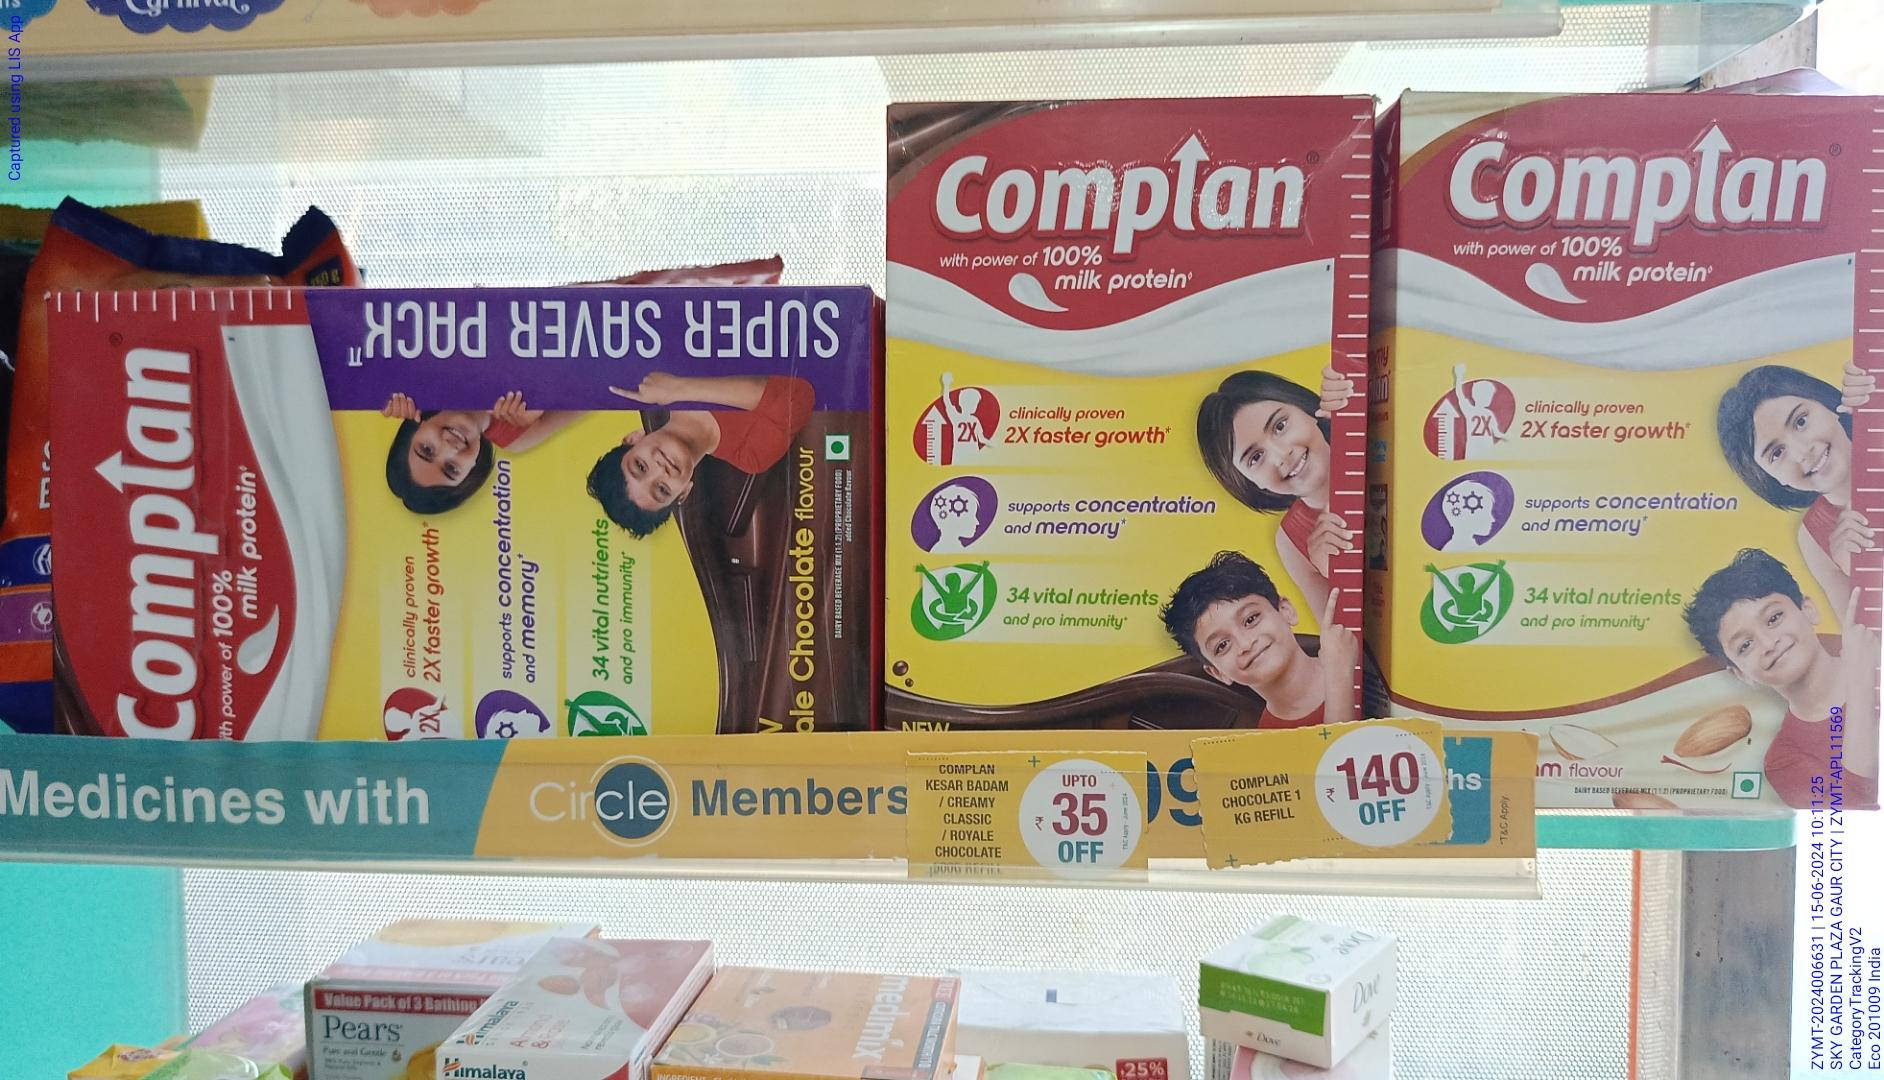COMPLAN_CHOCOLATE_500_GMS_PACK: (885, 106, 1363, 713)
COMPLAN_KESAR_BADAM_500_GMS_PACK: (1392, 91, 1884, 713)
